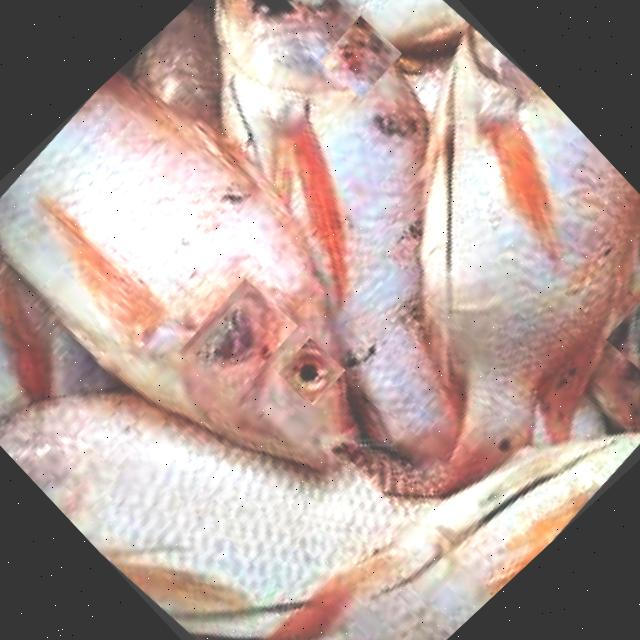Aeromonas Septicemia: (0, 74, 356, 469), (210, 0, 463, 463), (589, 254, 640, 432)
